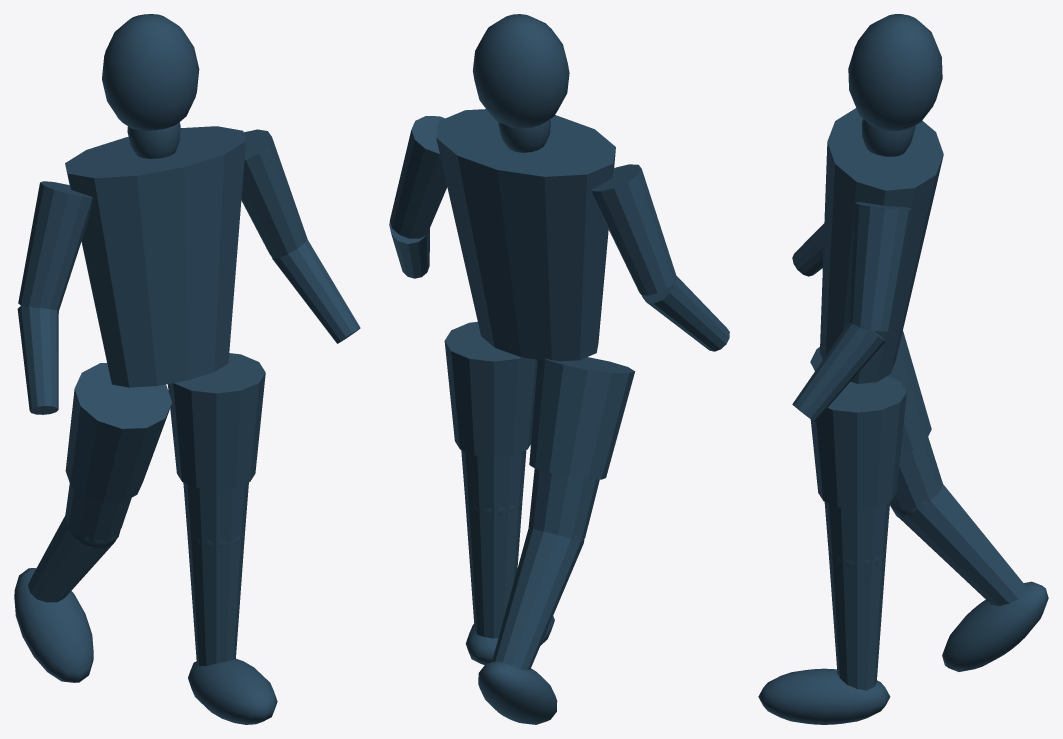
Rendered from left_foot.glb.
3 views of the same model, side by side, from view 1: azimuth 30°, elevation 25°; view 2: azimuth 150°, elevation 25°; view 3: azimuth 270°, elevation 25° (orthographic).
Parts seen in each view (by area): view 1: shirt, left_shorts, right_shorts, head, left_arm, right_shin, left_boot, right_arm, right_boot, left_forearm, right_forearm, right_thigh (+3 smaller); view 2: shirt, left_shorts, right_shorts, head, left_shin, left_arm, right_shin, right_arm, left_thigh, left_boot, right_thigh, left_forearm (+3 smaller); view 3: shirt, right_shorts, head, right_arm, left_shin, right_shin, right_boot, left_boot, right_forearm, right_thigh, left_thigh, left_shorts (+2 smaller).
Boxes of the visible parts, x1,y1,x2,y2 form: shirt: (65, 126, 245, 387); left_shorts: (65, 363, 172, 502); right_shorts: (167, 353, 265, 490); head: (102, 14, 199, 130); left_arm: (18, 181, 92, 310); right_shin: (187, 532, 244, 666); left_boot: (14, 568, 93, 682); right_arm: (241, 129, 307, 258); right_boot: (188, 658, 277, 724); left_forearm: (17, 306, 58, 414); right_forearm: (272, 239, 360, 343); right_thigh: (183, 482, 248, 543); shirt: (436, 109, 615, 361); left_shorts: (529, 357, 634, 479); right_shorts: (444, 321, 537, 457); head: (473, 14, 569, 128); left_shin: (492, 528, 583, 670); left_arm: (591, 164, 677, 295); right_shin: (465, 499, 522, 638); right_arm: (389, 116, 447, 238); left_thigh: (528, 468, 599, 539); left_boot: (478, 661, 557, 724); right_thigh: (461, 450, 526, 510); left_forearm: (642, 276, 729, 351); shirt: (820, 108, 943, 383); right_shorts: (810, 376, 906, 509); head: (848, 14, 942, 130); right_arm: (849, 202, 912, 331); left_shin: (898, 484, 1025, 605); right_shin: (828, 551, 886, 690); right_boot: (758, 668, 890, 724); left_boot: (942, 581, 1048, 671); right_forearm: (792, 322, 885, 421); right_thigh: (824, 502, 889, 562); left_thigh: (890, 437, 942, 510); left_shorts: (810, 331, 931, 455).
Size of the model in its own units: 0.9175 by 1.82 by 0.7032.
